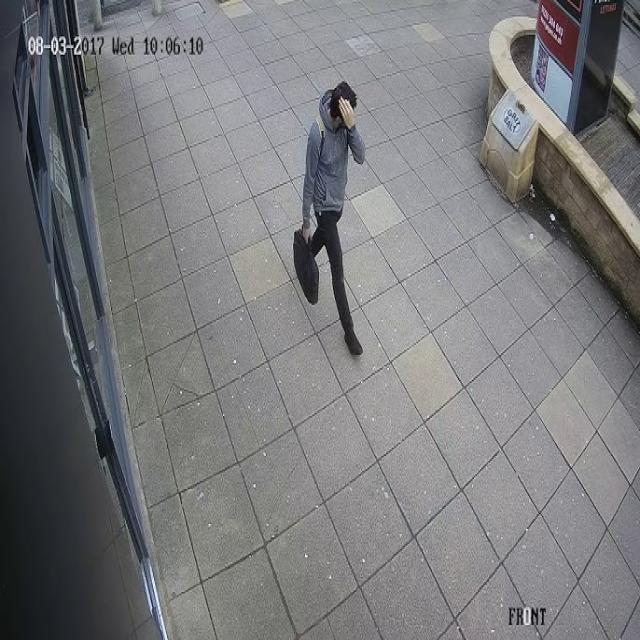standing: (301, 81, 365, 353)
